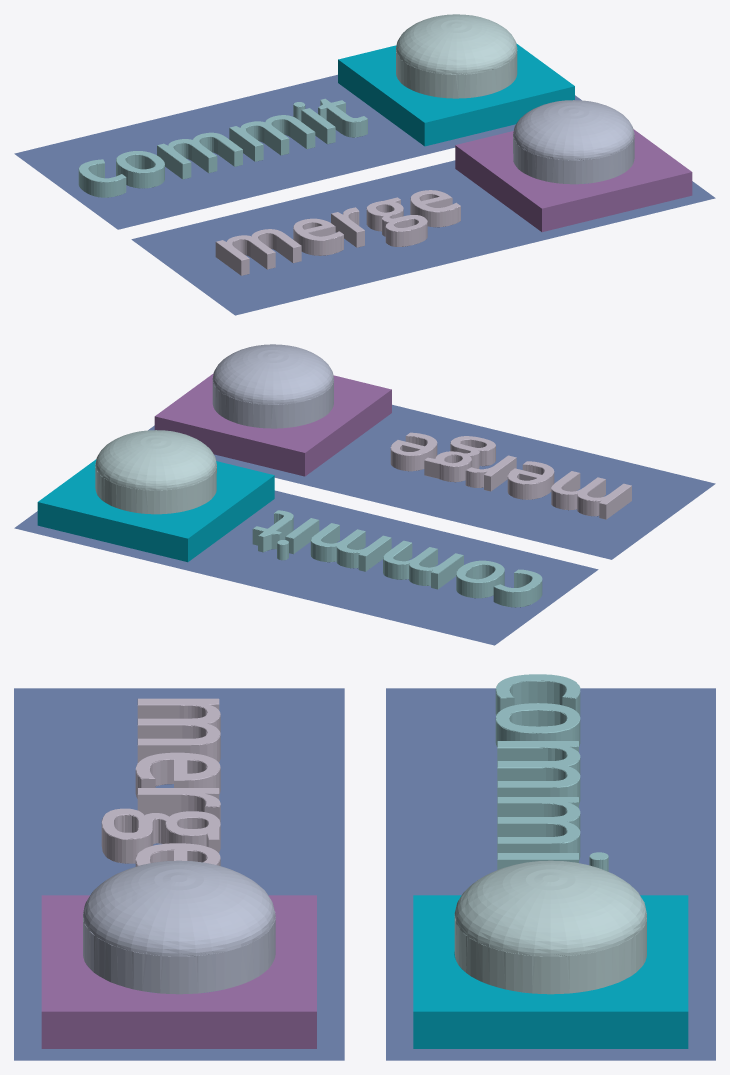
Rendered from buttons.gltf.
The picture shows the model from 3 angles, top to bottom: view 1: azimuth 30°, elevation 25°; view 2: azimuth 150°, elevation 25°; view 3: azimuth 270°, elevation 25°; orthographic projection. The views are drawn at different scales.
Visible parts, largest first — view 1: Mesh_Mesh_head_geo.001_lambert2SG.001; view 2: Mesh_Mesh_head_geo.001_lambert2SG.001; view 3: Mesh_Mesh_head_geo.001_lambert2SG.001.
Boxes of the visible parts, box(x1,y1,x2,y2) form: Mesh_Mesh_head_geo.001_lambert2SG.001: box(14, 14, 715, 315); Mesh_Mesh_head_geo.001_lambert2SG.001: box(14, 344, 715, 645); Mesh_Mesh_head_geo.001_lambert2SG.001: box(14, 674, 715, 1060).
Bounding box in the file's own units: 64 × 9 × 50.99.
